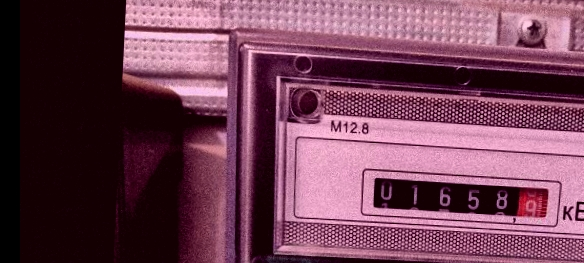0: (379, 179, 393, 201)
1: (409, 183, 420, 205)
5: (466, 187, 481, 210)
6: (437, 184, 452, 207)
8: (494, 187, 509, 210)
9: (522, 197, 537, 219)
screen: (354, 162, 569, 232)
